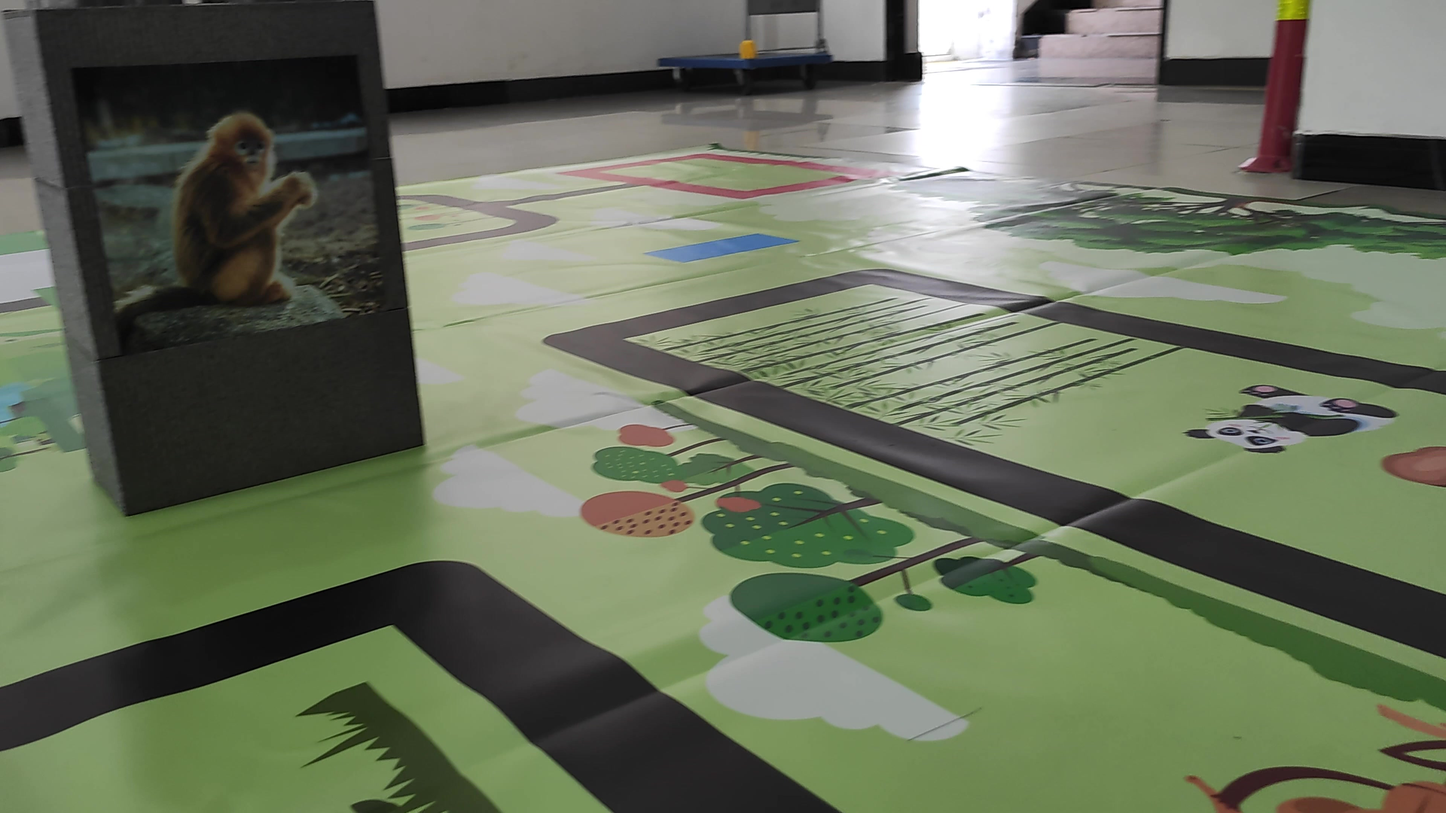monkey: (113, 97, 336, 332)
